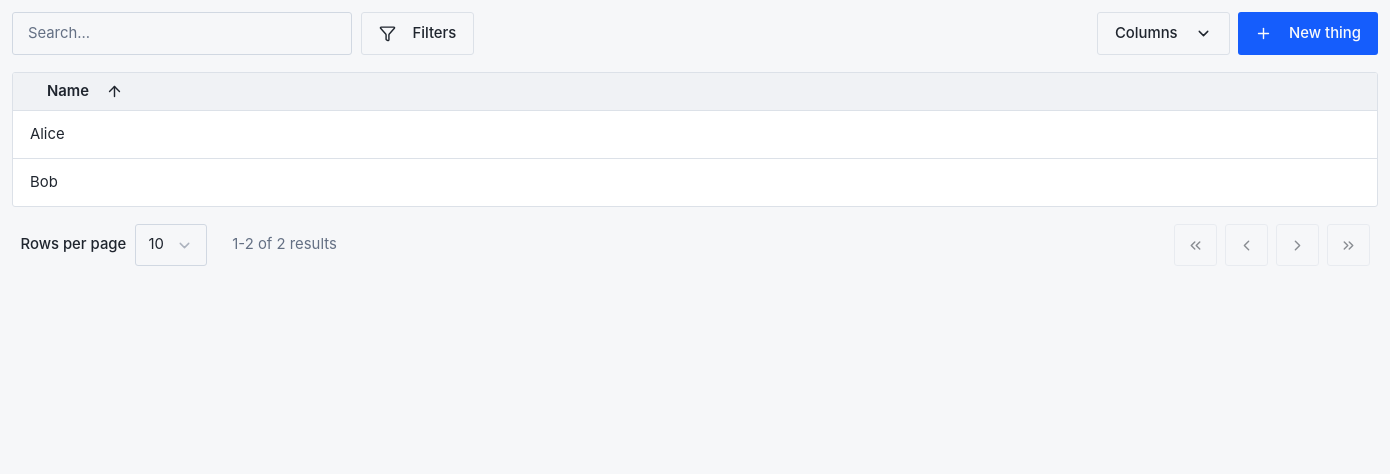
Scenario: ResourceListing state › offers a reset — not the create CTA — when a search hid every row
Type "zzz" into the field with placeholder "Search..." at (182,33), box top-left (12, 12), bottom-right (352, 54)
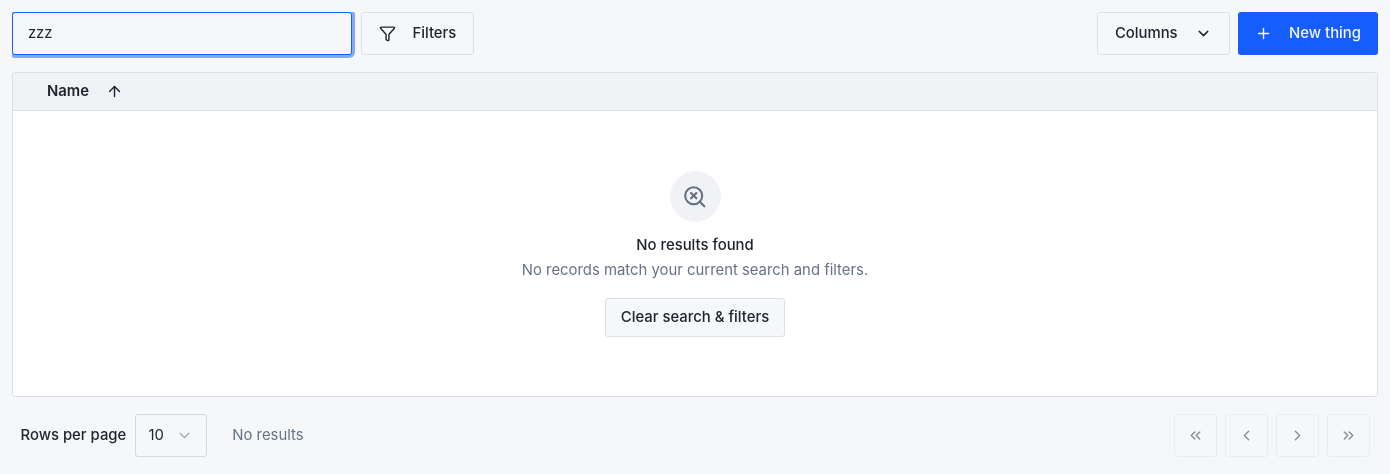
Now the text "No results found" is shown, box top-left (636, 236), bottom-right (754, 254)
Click the button "Clear search & filters" at (695,317), box top-left (605, 298), bottom-right (785, 337)
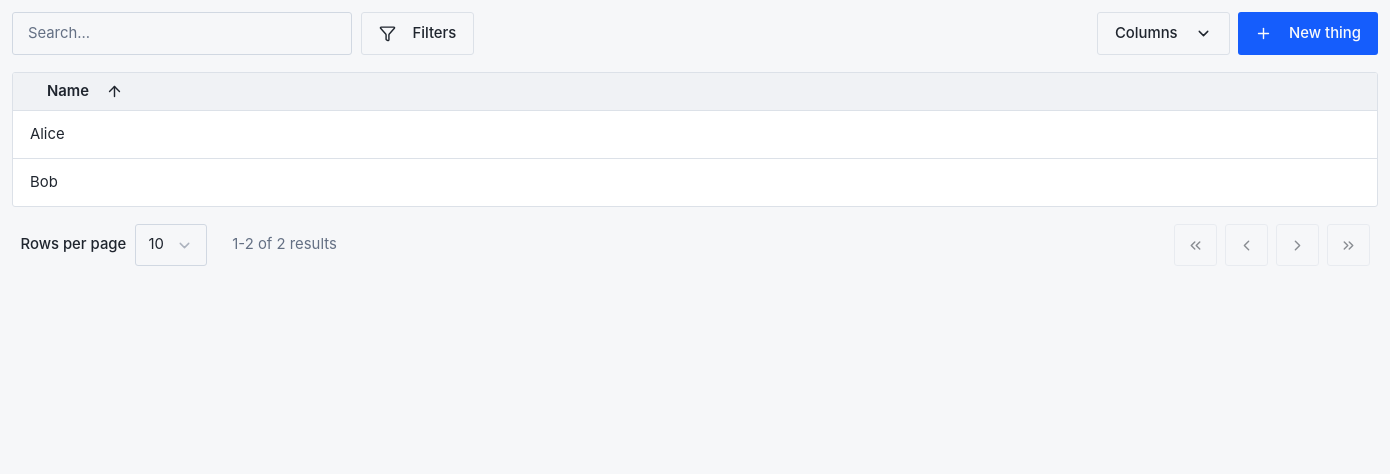
Now the field with placeholder "Search..." is empty, box top-left (12, 12), bottom-right (352, 54)
Now the text "Alice" is shown, box top-left (13, 111), bottom-right (1377, 159)
